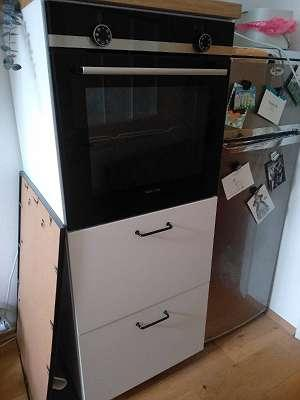cabinet_door: (75, 215, 208, 299), (83, 294, 202, 378)
handle: (76, 63, 232, 80), (135, 309, 170, 336), (133, 218, 173, 240)
